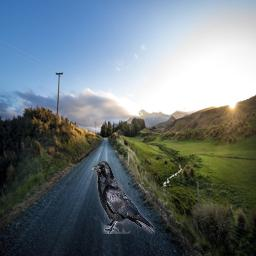Crow: (92, 161, 155, 234)
